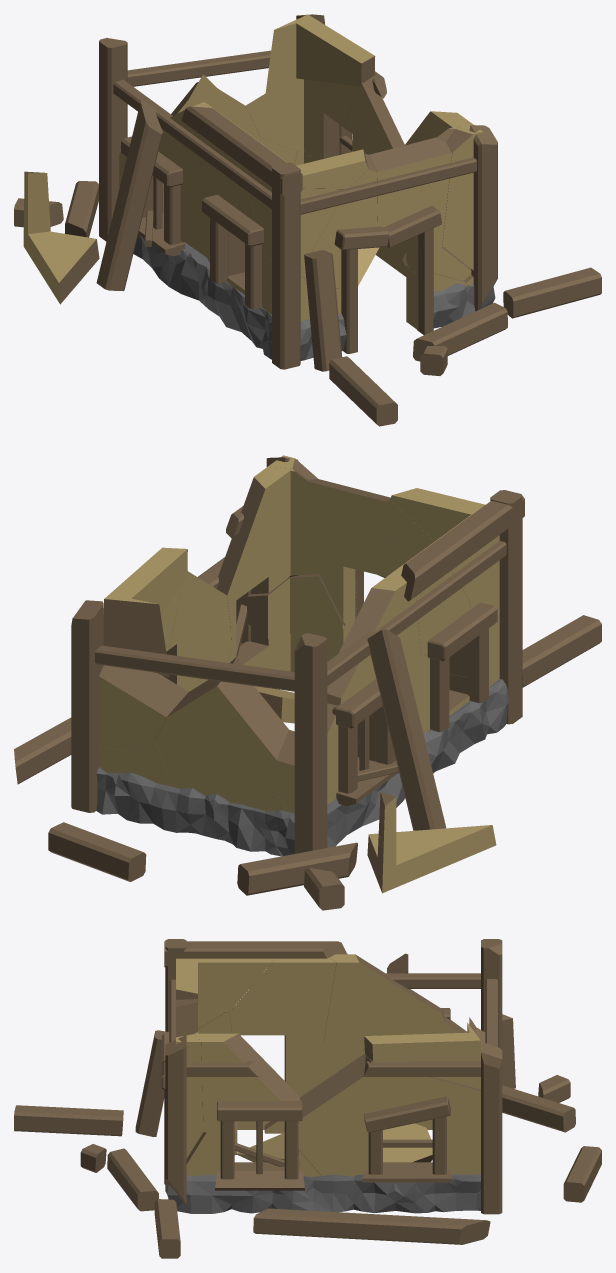
The model's file is Ruins 1.fbx.
3 renders of one model, top to bottom at view 1: azimuth 30°, elevation 25°; view 2: azimuth 150°, elevation 25°; view 3: azimuth 270°, elevation 25°, orthographic. The views are drawn at different scales.
Parts seen in each view (by area): view 1: House ruins 1; view 2: House ruins 1; view 3: House ruins 1.
Boxes of the visible parts, <box> form: House ruins 1: <box>14,14,601,426</box>; House ruins 1: <box>14,455,601,910</box>; House ruins 1: <box>14,939,601,1258</box>.
Bounding box in the file's own units: 7.44 × 3.37 × 9.99.
